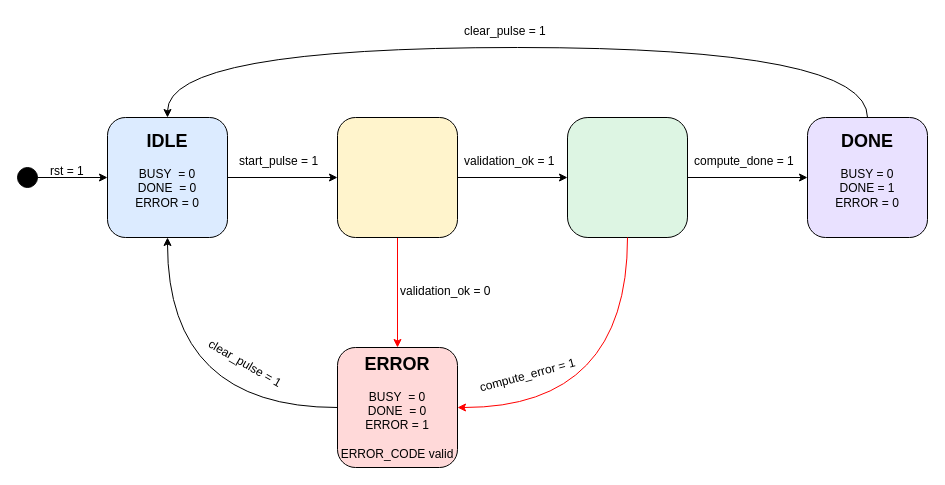
Image size: 945x485. Some labels were removed from this diagram. The shapes that lost their labels are listed below. From the top down, each one's centre as x and y in pixels, then its label:
(x=397, y=177): CHECK BUSY = 1 DONE = 0 ERROR = 0 Validate Config & Data
(x=627, y=177): RUN BUSY = 1 DONE = 0 ERROR = 0 CORE_EN = 1
